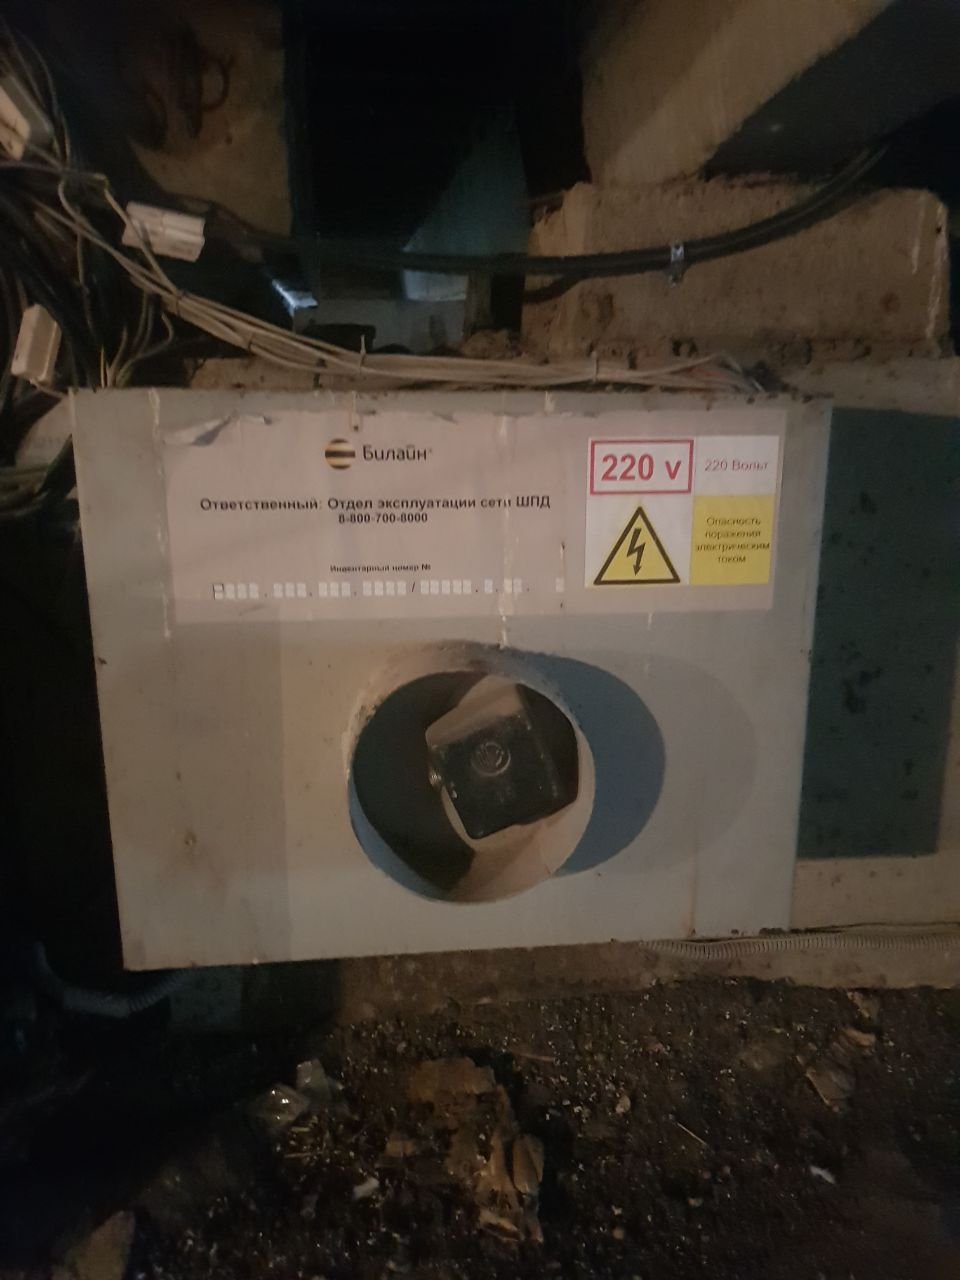shta-3: (63, 386, 838, 980)
